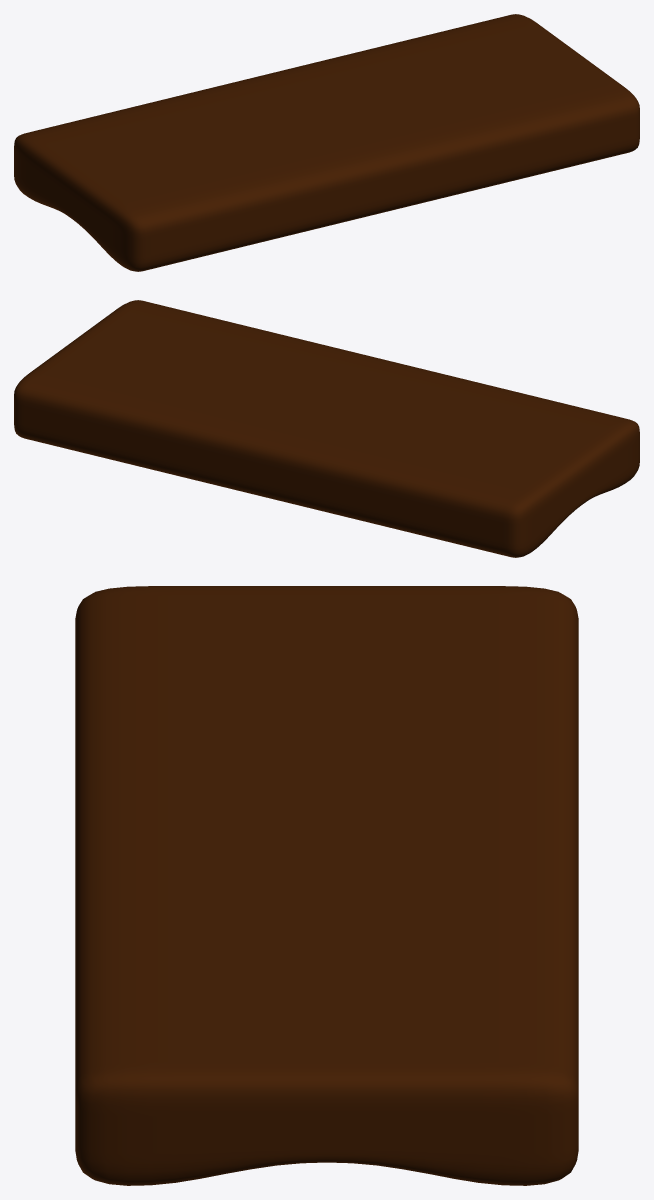
The model's file is RSCadera.obj.
3 views of the same model, one above another, from view 1: azimuth 30°, elevation 25°; view 2: azimuth 150°, elevation 25°; view 3: azimuth 270°, elevation 25° (orthographic). The views are drawn at different scales.
Visible parts, largest first — view 1: Cadera; view 2: Cadera; view 3: Cadera.
Boxes of the visible parts, box(x1,y1,x2,y2) form: Cadera: box(14, 14, 639, 271); Cadera: box(14, 300, 639, 557); Cadera: box(75, 586, 578, 1185).
Size of the model in its own units: 24.21 by 2.57 by 10.27.
